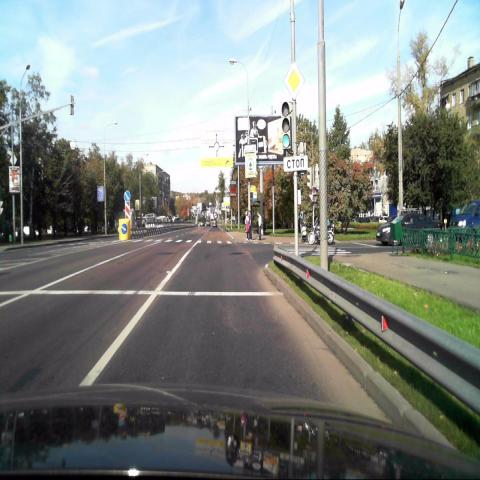6_16: (284, 156, 308, 171)
